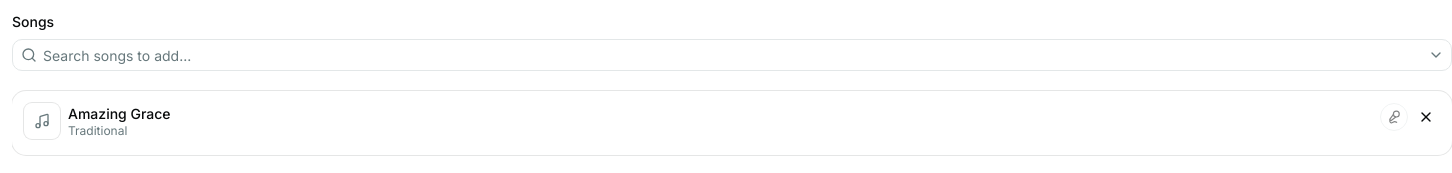
Test: LineupSongsField › excludes an already-added song from the combobox's candidate list
The image size is (1452, 173).
In the dropdown with placeholder "Search songs to add...": [730, 55] box [37,39,1424,71], type "a"
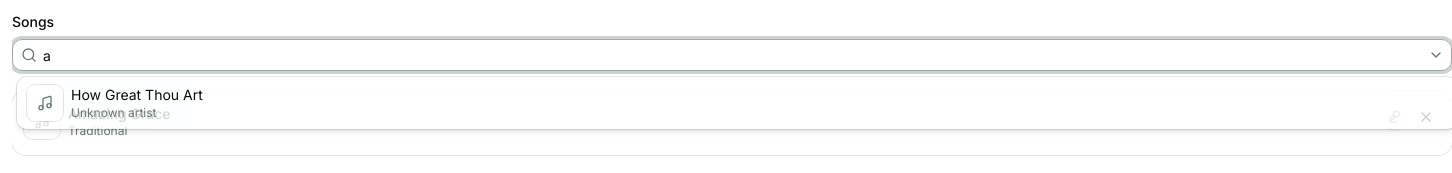
Expected: the text "Amazing Grace" is shown once, [68,104,171,123]
Now the text "How Great Thou Art" is shown, box [71,85,203,105]
